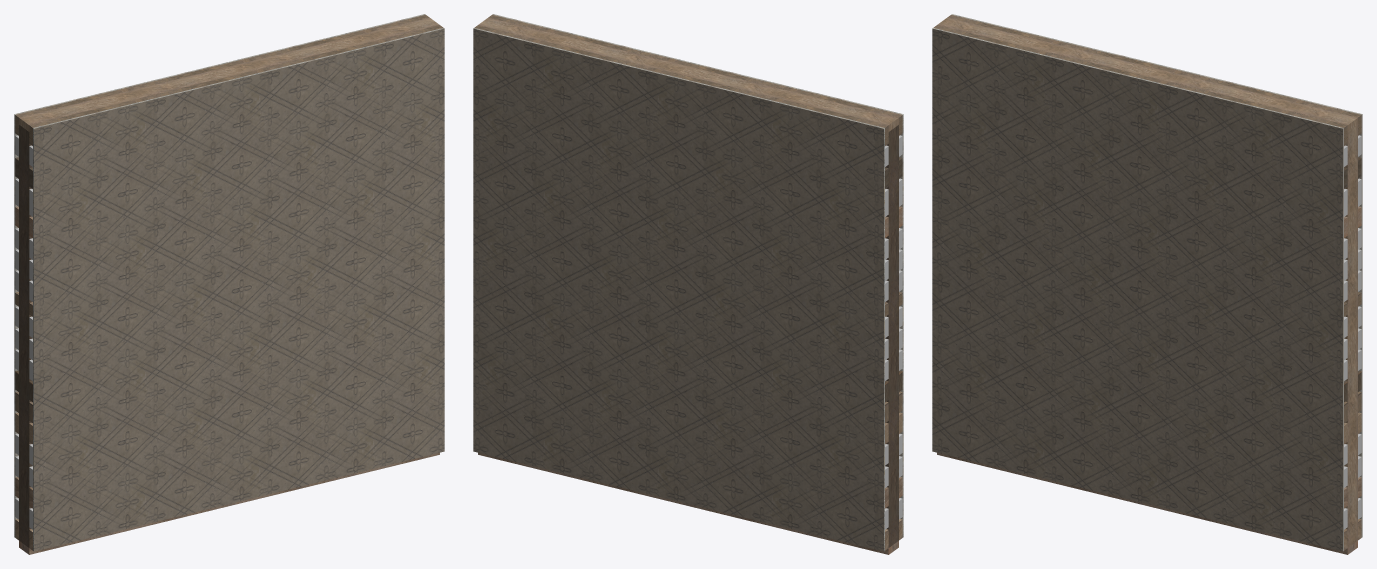
Rendered from WallPeiceC.fbx.
3 views of the same model, side by side, from view 1: azimuth 30°, elevation 25°; view 2: azimuth 150°, elevation 25°; view 3: azimuth 330°, elevation 25° (orthographic).
Visible parts, largest first — view 1: WallPeiceC; view 2: WallPeiceC; view 3: WallPeiceC.
Boxes of the visible parts, x1,y1,x2,y2 form: WallPeiceC: (14,14,444,554); WallPeiceC: (473,14,903,554); WallPeiceC: (932,14,1362,554).
Size of the model in its own units: 374 by 374 by 31.37.
